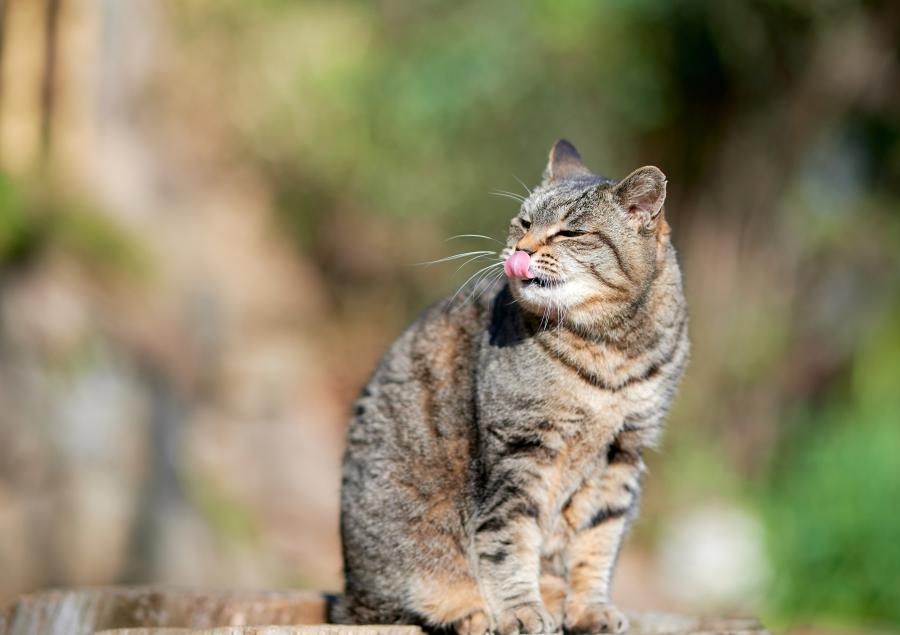Cat: (320, 129, 716, 635)
